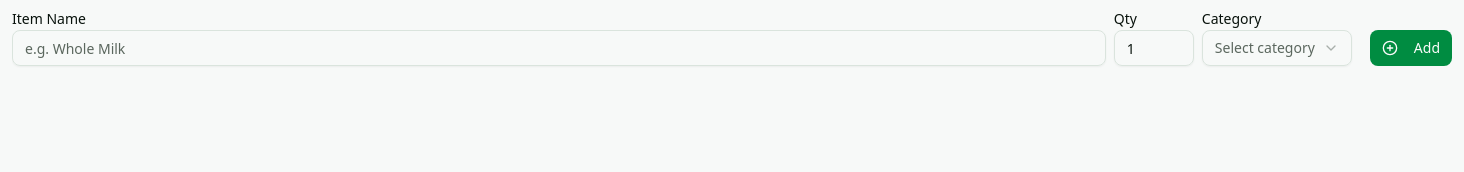
Scenario: AddDraftItemForm validation › shows an error when submitting with an empty name
Click the button with aria-label "add item" at (1411, 48), box [1370,30,1452,66]
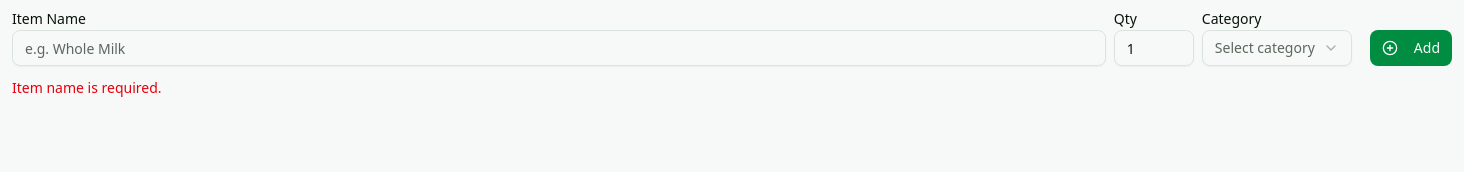
Expected: the message reads "Item name is required.", [12,78,162,97]
